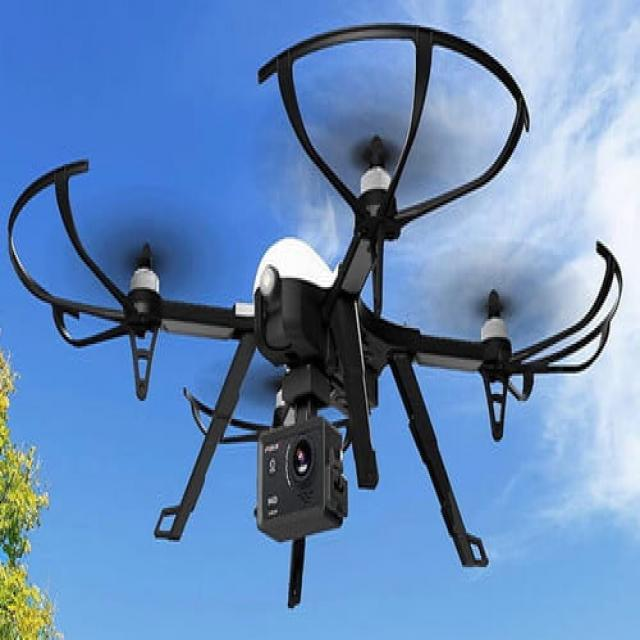drones: (7, 23, 625, 606)
